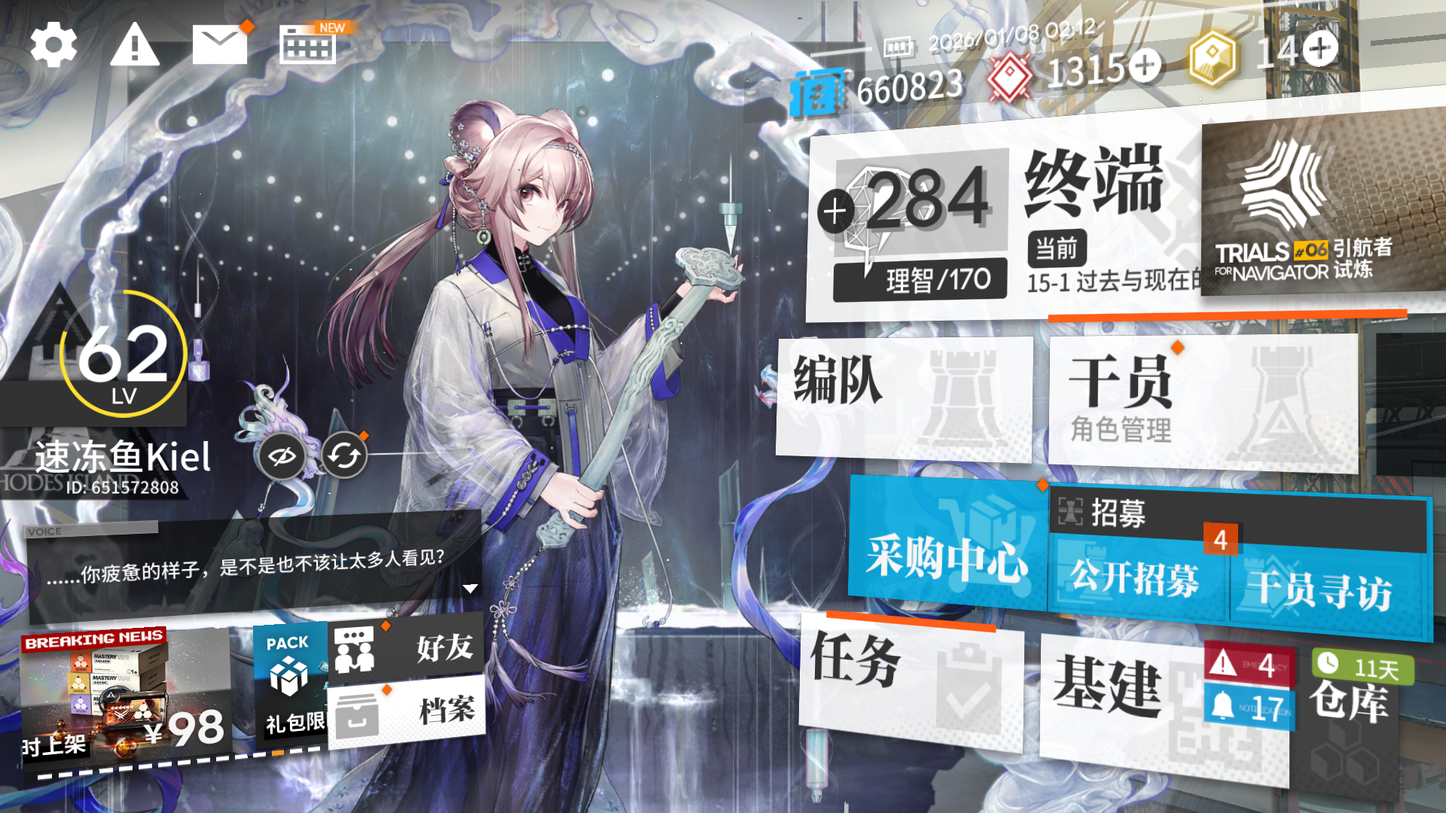home_button: (1008, 134, 1179, 255)
infrastructure_button: (1040, 629, 1286, 780)
